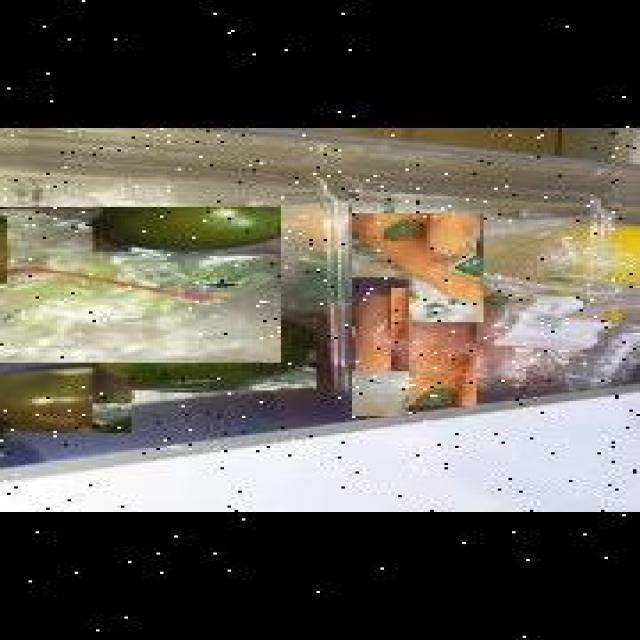carrot: (348, 213, 480, 322), (387, 298, 473, 406), (348, 278, 406, 416)
lemon: (505, 224, 640, 284)
salad: (0, 207, 277, 362)
tomato: (89, 318, 313, 392), (0, 354, 107, 457), (0, 361, 128, 434), (0, 278, 107, 356), (0, 192, 64, 275)
